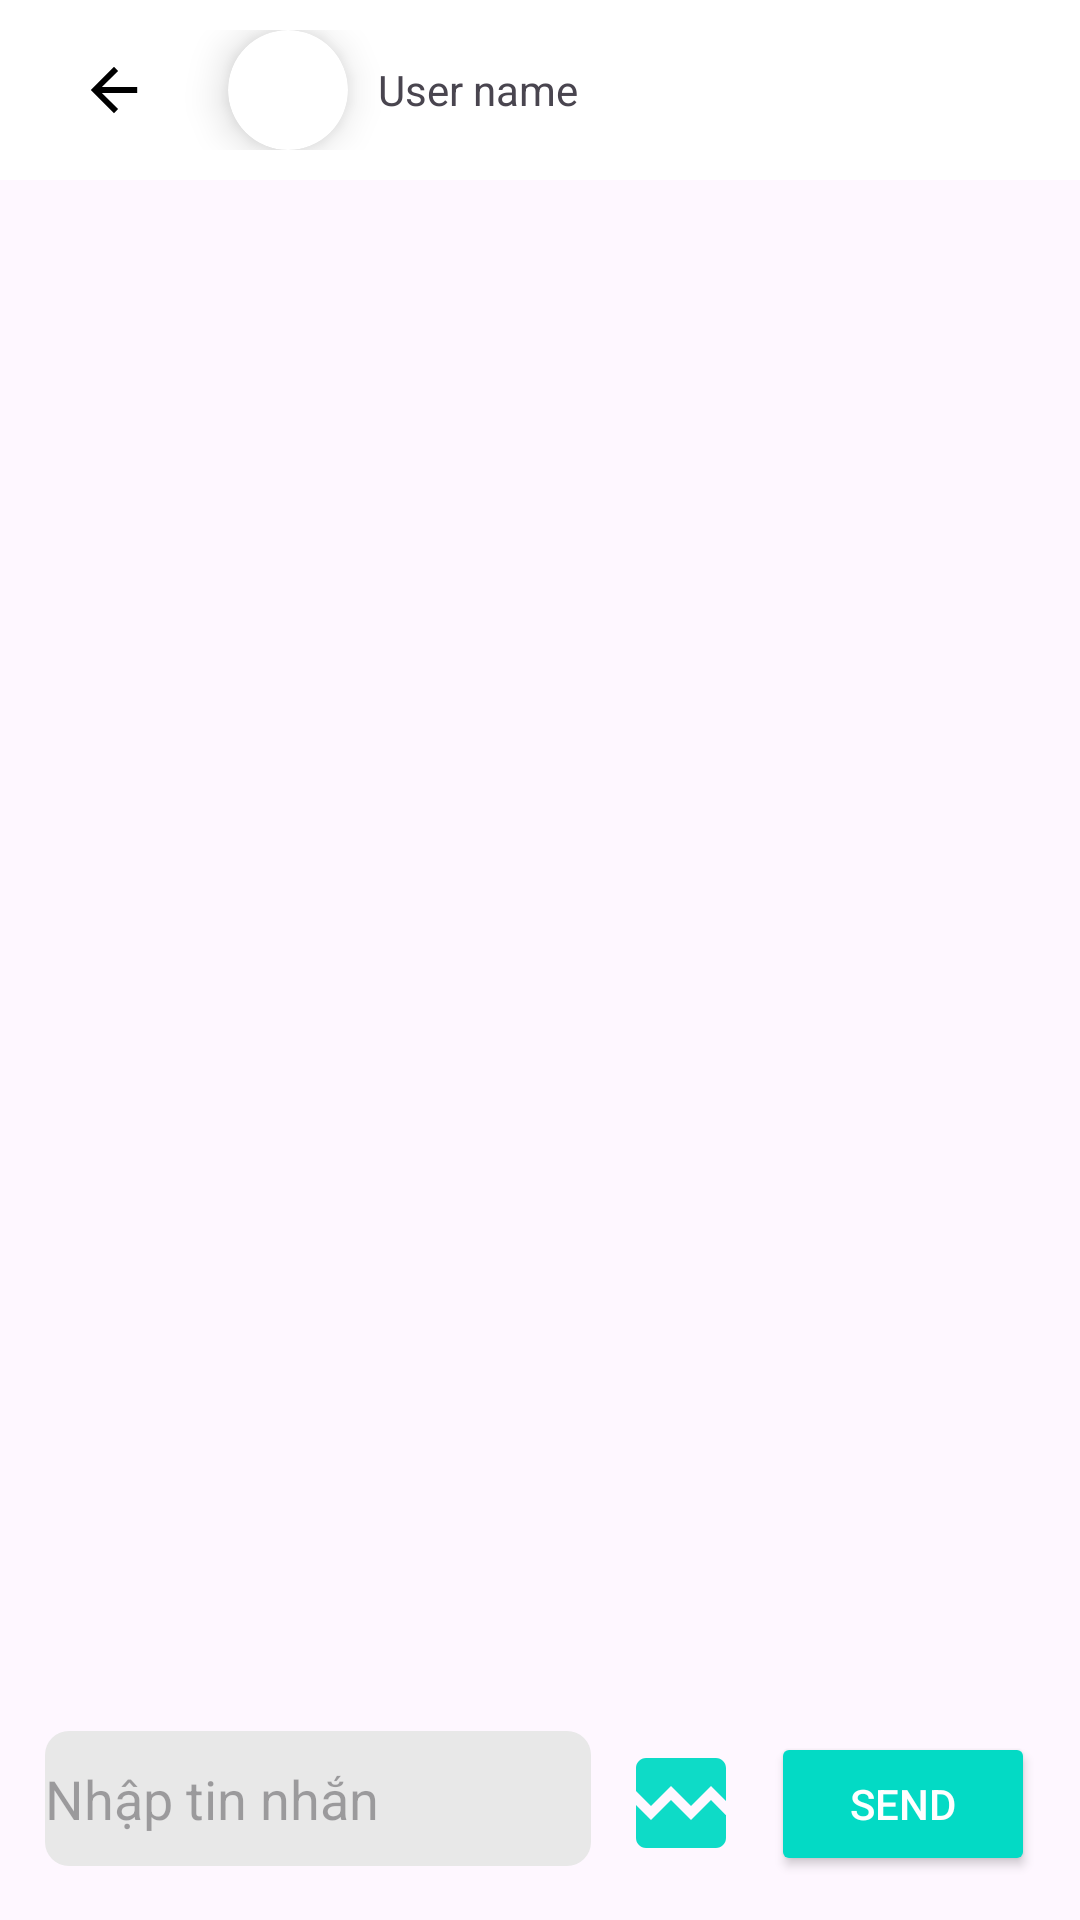

Screen size 1080w x 1920h. Icon name, then its box in pixels as bbox=[x1, y1, x2, y2]:
broken: bbox=[636, 1758, 726, 1848]
